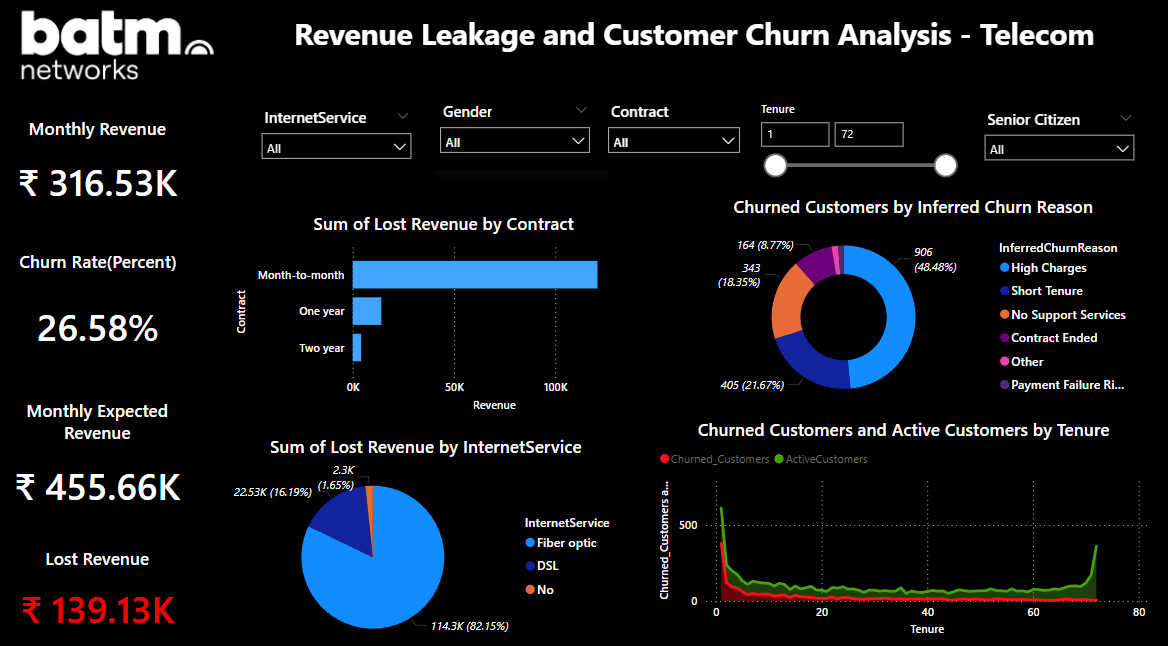

This screenshot's page, from the dashboard's own definition file:
{"tool":"powerbi","page":{"name":"Page 1","canvas":[1280,720],"ordinal":0},"visuals":[{"type":"donutChart","title":"Churned Customers by Inferred Churn Reason","fields":{"Category":["Query1.InferredChurnReason"],"Y":["Sum(Query1.ChurnedCustomers)"]},"box":[748.1,220.2,497.1,241.3],"z":0},{"type":"card","title":"Lost Revenue","fields":{"Values":["Sum(Query1.LostRevenue)"]},"box":[14.6,600.7,202.4,108.5],"z":1000},{"type":"card","title":"Monthly Revenue","fields":{"Values":["Sum(Monthlyrevenue.Monthlyrevenue)"]},"box":[14.6,136,194.3,124.7],"z":2000},{"type":"card","title":"Monthly Expected Revenue","fields":{"Values":["Sum(Query1.Exceptedrevenue)"]},"box":[14.6,440.4,202.4,137.6],"z":3000},{"type":"slicer","fields":{"Values":["Query5.Gender"]},"box":[476.1,115,181.4,79.3],"z":4000},{"type":"slicer","fields":{"Values":["Query5.Tenure"]},"box":[819.3,115,233.2,92.3],"z":5000},{"type":"slicer","fields":{"Values":["Query5.SeniorCitizenText"]},"box":[1063.8,123.1,181.4,84.2],"z":6000},{"type":"slicer","fields":{"Values":["Query5.Contract"]},"box":[657.4,115,161.9,79.3],"z":7000},{"type":"slicer","fields":{"Values":["Query5.InternetService"]},"box":[283.4,121.4,181.4,72.9],"z":8000},{"type":"barChart","title":"Sum of Lost Revenue by Contract","fields":{"Category":["Query5.Contract"],"Y":["Sum(Query5.LostRevenue)"]},"box":[260.7,238,456.6,223.5],"z":9000},{"type":"pieChart","title":"Sum of Lost Revenue by InternetService","fields":{"Category":["Query5.InternetService"],"Y":["Sum(Query5.LostRevenue)"]},"box":[244.5,479.3,451.8,241.3],"z":10000},{"type":"card","title":"Churn Rate(Percent)","fields":{"Values":["Churn Reason.ChurnRate"]},"box":[24.3,280.1,184.6,140.9],"z":11000},{"type":"stackedAreaChart","title":"Churned Customers and Active Customers by Tenure","fields":{"Category":["Query5.Tenure"],"Y":["Query5.Churned_Customers","Query5.ActiveCustomers"]},"box":[717.3,461.5,537.6,241.3],"z":12000},{"type":"image","box":[16.2,8.1,259.1,106.9],"z":13000},{"type":"textbox","box":[275.3,19.4,969.9,95.5],"z":14000}]}

Visuals, with their boxes in screenshot pixels (x1, y1, x2, y2), scaled from the page's 1280x720 canvas onto the 1168x646 screenshot:
"Churned Customers by Inferred Churn Reason" donutChart: (x1=683, y1=198, x2=1136, y2=414)
"Lost Revenue" card: (x1=13, y1=539, x2=198, y2=636)
"Monthly Revenue" card: (x1=13, y1=122, x2=191, y2=234)
"Monthly Expected Revenue" card: (x1=13, y1=395, x2=198, y2=519)
slicer - Query5.Gender: (x1=434, y1=103, x2=600, y2=174)
slicer - Query5.Tenure: (x1=748, y1=103, x2=960, y2=186)
slicer - Query5.SeniorCitizenText: (x1=971, y1=110, x2=1136, y2=186)
slicer - Query5.Contract: (x1=600, y1=103, x2=748, y2=174)
slicer - Query5.InternetService: (x1=259, y1=109, x2=424, y2=174)
"Sum of Lost Revenue by Contract" barChart: (x1=238, y1=214, x2=655, y2=414)
"Sum of Lost Revenue by InternetService" pieChart: (x1=223, y1=430, x2=635, y2=645)
"Churn Rate(Percent)" card: (x1=22, y1=251, x2=191, y2=378)
"Churned Customers and Active Customers by Tenure" stackedAreaChart: (x1=655, y1=414, x2=1145, y2=631)
image: (x1=15, y1=7, x2=251, y2=103)
textbox: (x1=251, y1=17, x2=1136, y2=103)
